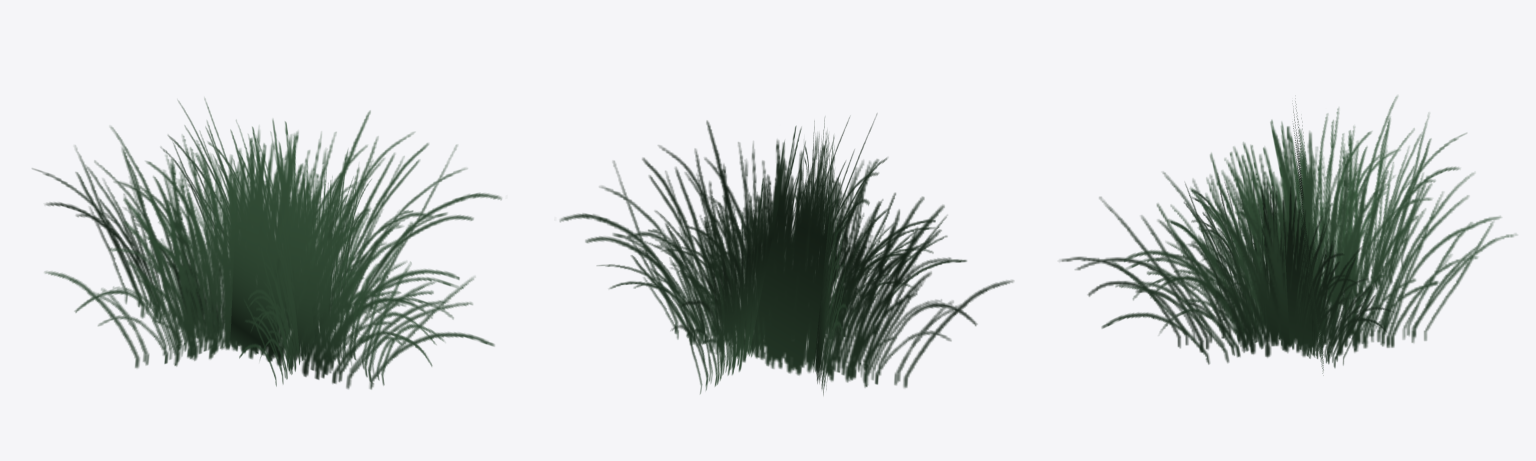
The model's file is grass_medium1.glb.
3 views of the same model, side by side, from view 1: azimuth 30°, elevation 25°; view 2: azimuth 150°, elevation 25°; view 3: azimuth 270°, elevation 25° (orthographic). The views are drawn at different scales.
Visible parts, largest first — view 1: Grass medium 1; view 2: Grass medium 1; view 3: Grass medium 1.
Part boxes in pixels (box(x1,y1,x2,y2)): Grass medium 1: box(32, 98, 501, 389); Grass medium 1: box(560, 113, 1013, 395); Grass medium 1: box(1059, 95, 1516, 375).
Size of the model in its own units: 0.3876 by 0.2339 by 0.3657.
1 material, 1 textured.
